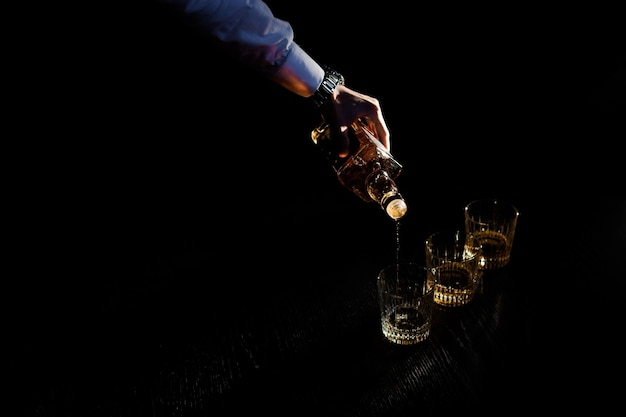alcohol: (307, 109, 406, 220), (375, 256, 437, 346), (419, 226, 485, 305), (461, 197, 522, 273)
